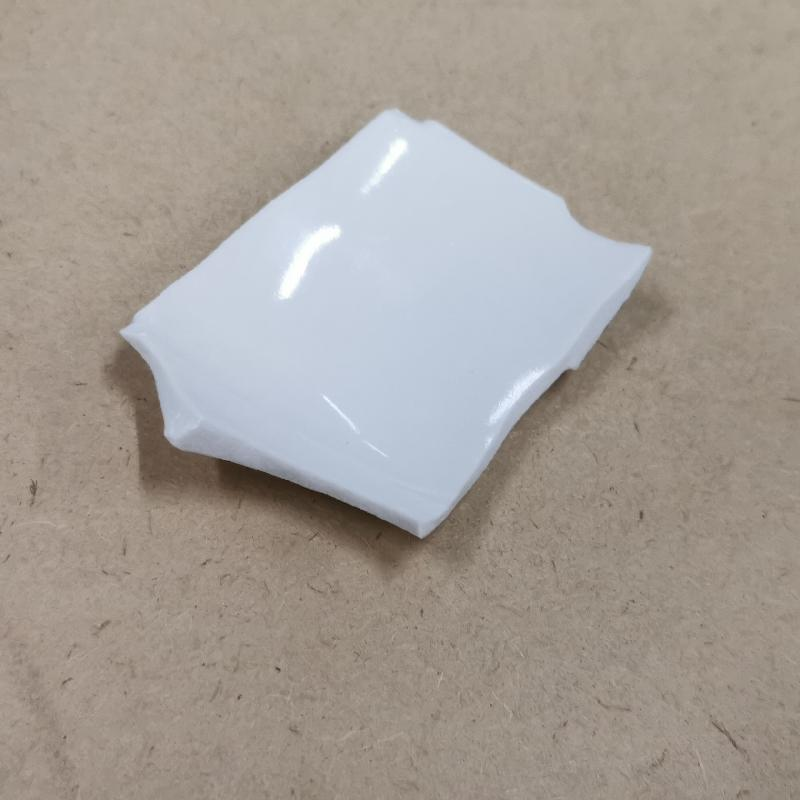ceram: (118, 103, 664, 548)
